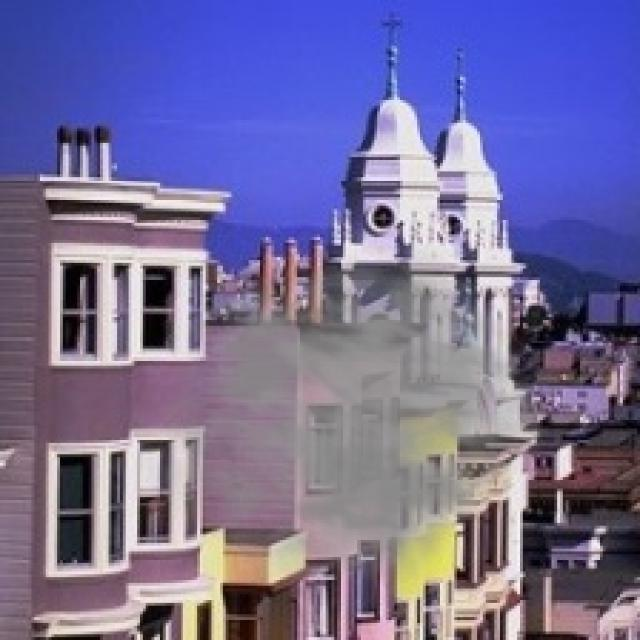smoke: (128, 245, 546, 606)
